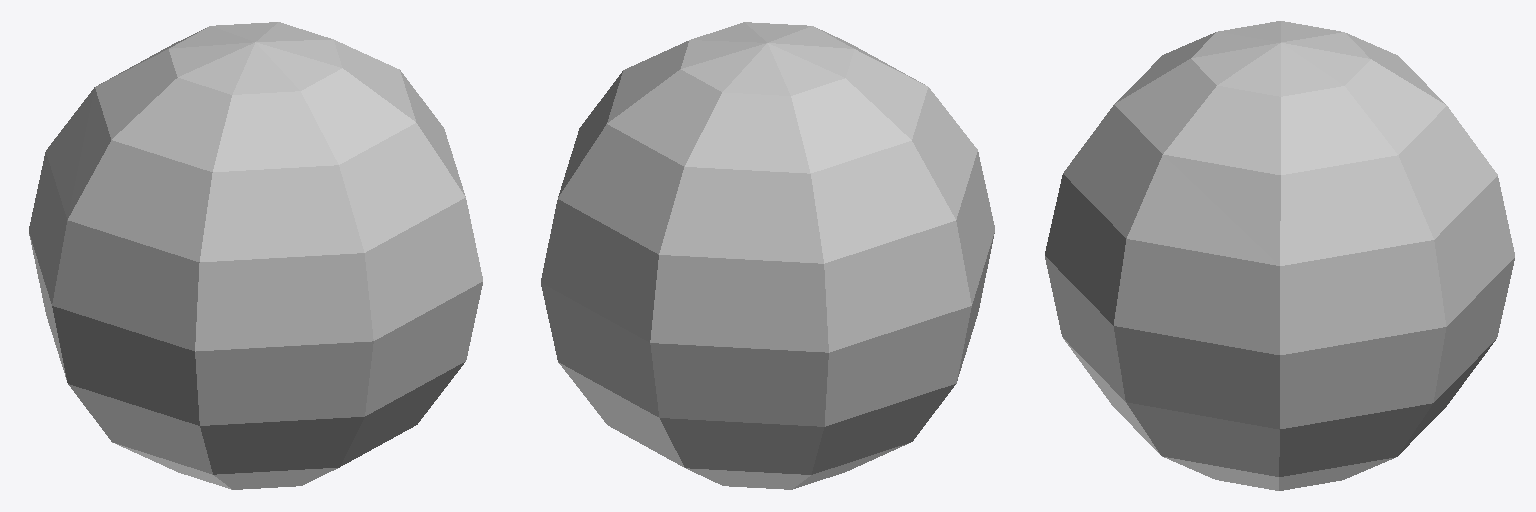
Rendered from pokeball.obj.
3 views of the same model, side by side, from view 1: azimuth 30°, elevation 25°; view 2: azimuth 150°, elevation 25°; view 3: azimuth 270°, elevation 25° (orthographic).
Visible parts, largest first — view 1: polygon0; view 2: polygon0; view 3: polygon0.
Part boxes in pixels (left/top/right/bottom): polygon0: left=29, top=22, right=482, bottom=489; polygon0: left=541, top=22, right=994, bottom=489; polygon0: left=1045, top=21, right=1514, bottom=490.
Size of the model in its own units: 1.03 by 1.03 by 1.03.